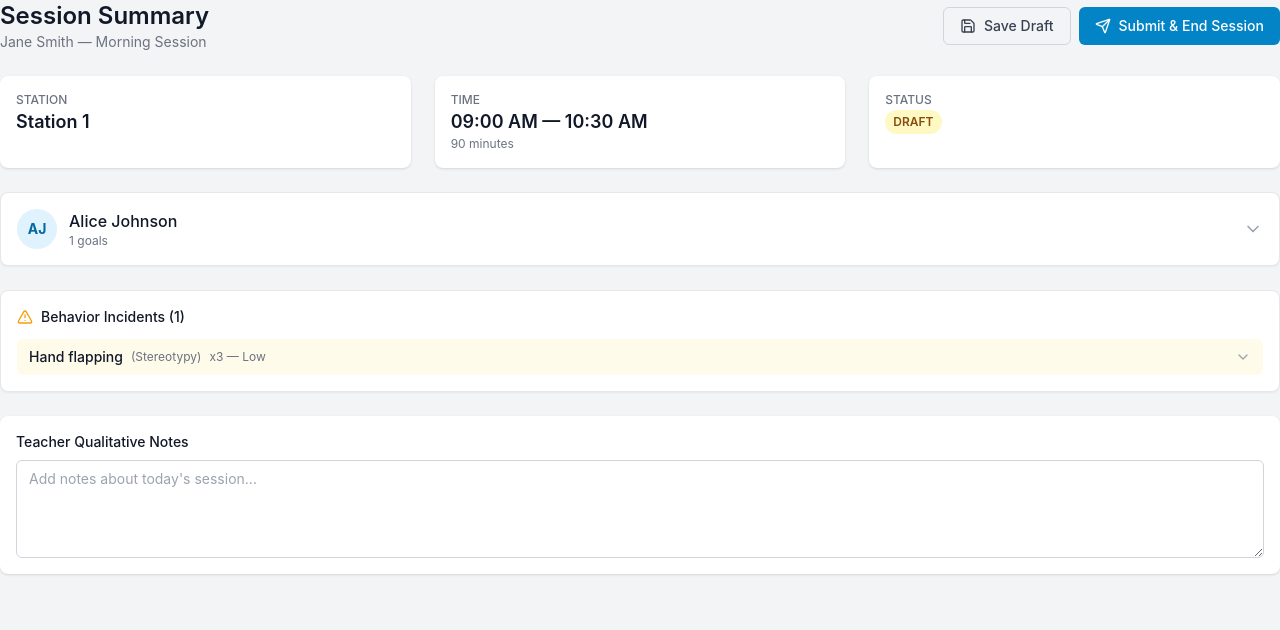
SessionSummaryPage › expands student to show goal details
Click the text "Alice Johnson" at (123, 221), box [69,209,177,233]
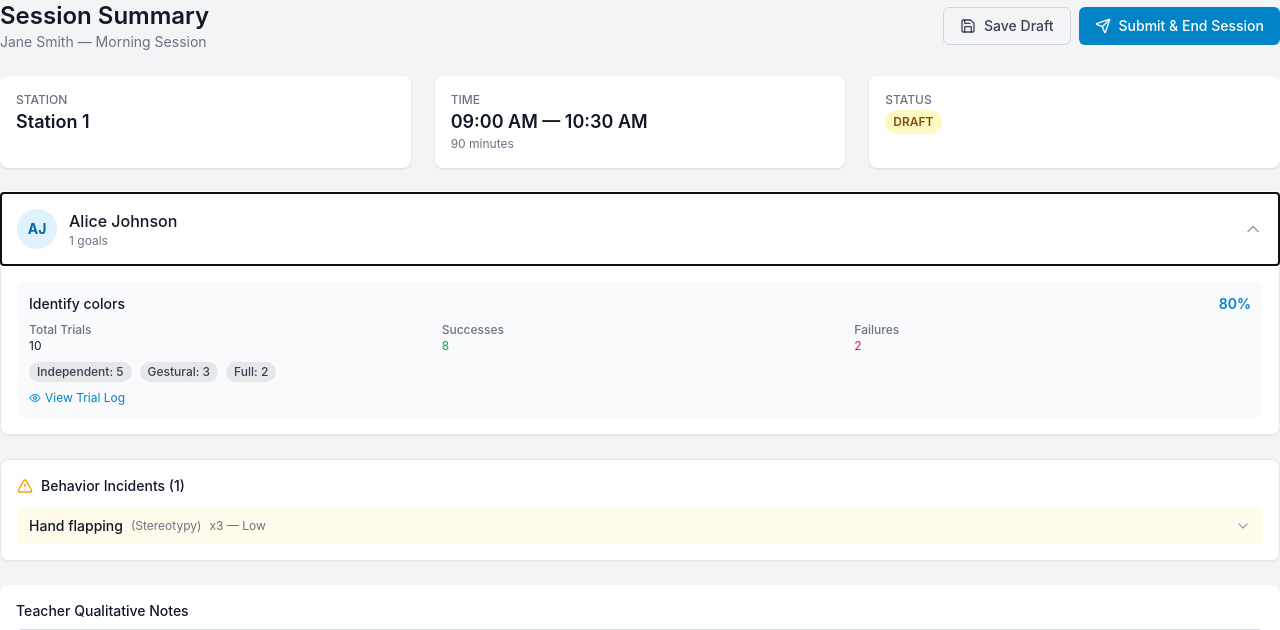
Expected: the text "Identify colors" is shown, [29,295,125,312]
Expected: the text "80%" is shown, [1219,294,1251,314]
